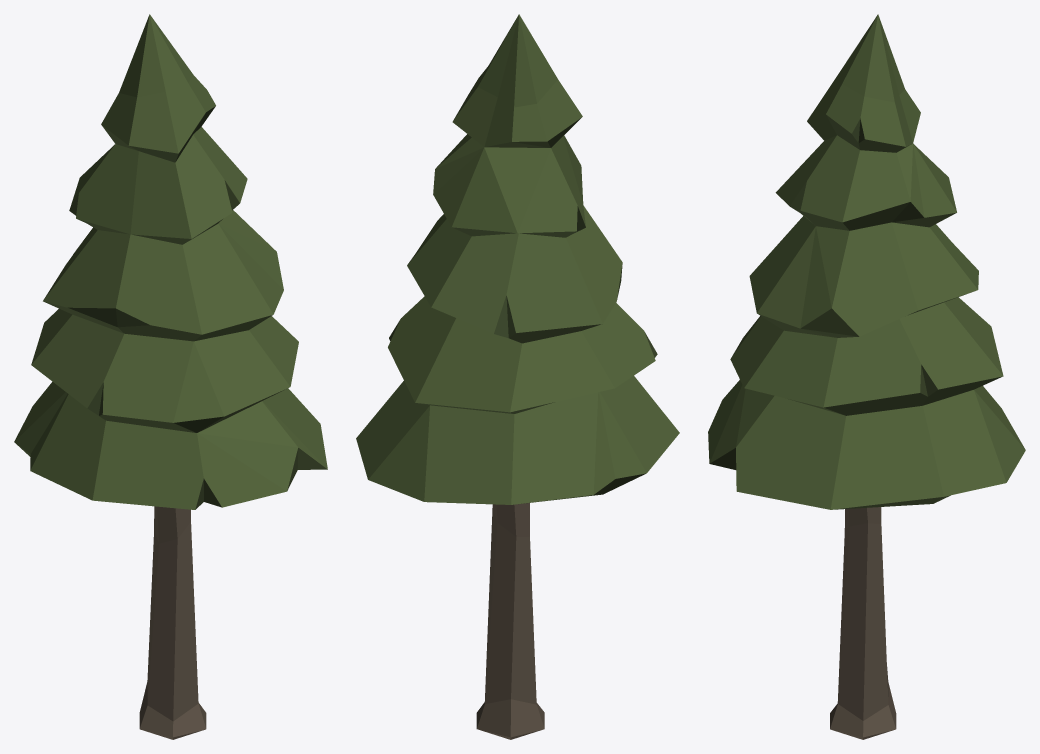
The model's file is SM_Env_Tree_Pine_02.fbx.
3 renders of one model, left to right at view 1: azimuth 30°, elevation 25°; view 2: azimuth 150°, elevation 25°; view 3: azimuth 270°, elevation 25°, orthographic. The views are drawn at different scales.
Parts seen in each view (by area): view 1: SM_Env_Tree_Pine_02; view 2: SM_Env_Tree_Pine_02; view 3: SM_Env_Tree_Pine_02.
Part boxes in pixels (bbox=[...]): SM_Env_Tree_Pine_02: bbox=[14, 14, 327, 739]; SM_Env_Tree_Pine_02: bbox=[356, 14, 679, 739]; SM_Env_Tree_Pine_02: bbox=[708, 14, 1025, 739].
Bounding box in the file's own units: 148 × 379 × 152.
